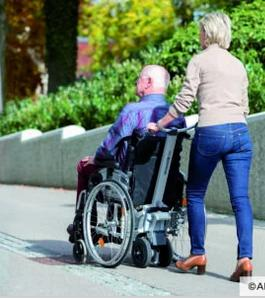push_wheelchair: (147, 13, 253, 282)
wheelchair: (67, 65, 205, 268)
